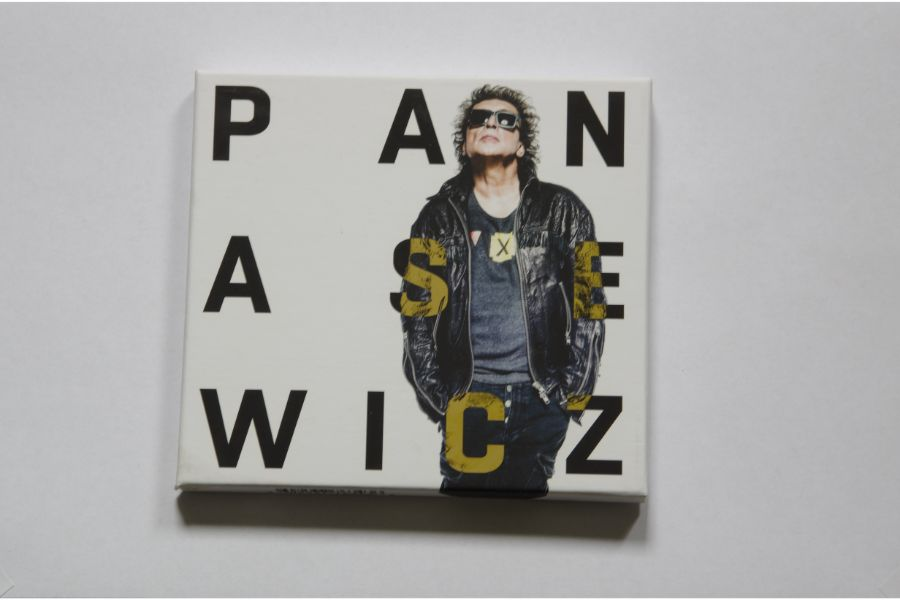album: (173, 66, 658, 501)
